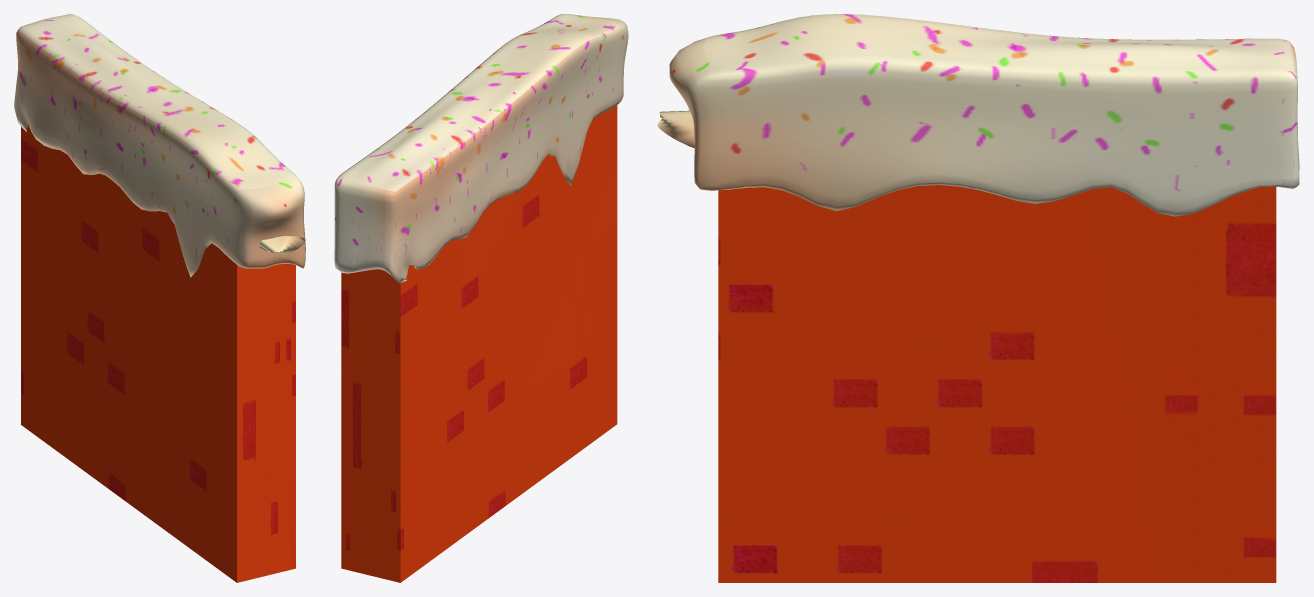
File: CandyWall.fbx
3 views of the same model, side by side, from view 1: azimuth 30°, elevation 25°; view 2: azimuth 150°, elevation 25°; view 3: azimuth 270°, elevation 25° (orthographic). The views are drawn at different scales.
Parts seen in each view (by area): view 1: Cube.005, Cube.004; view 2: Cube.005, Cube.004; view 3: Cube.005, Cube.004.
Part boxes in pixels (bbox=[...]): Cube.005: bbox=[21, 124, 295, 582]; Cube.004: bbox=[14, 14, 305, 277]; Cube.005: bbox=[341, 105, 617, 582]; Cube.004: bbox=[334, 14, 628, 283]; Cube.005: bbox=[718, 185, 1276, 582]; Cube.004: bbox=[657, 14, 1299, 216].
Bounding box in the file's own units: 77.71 × 421 × 460.
2 materials, 2 textured.
